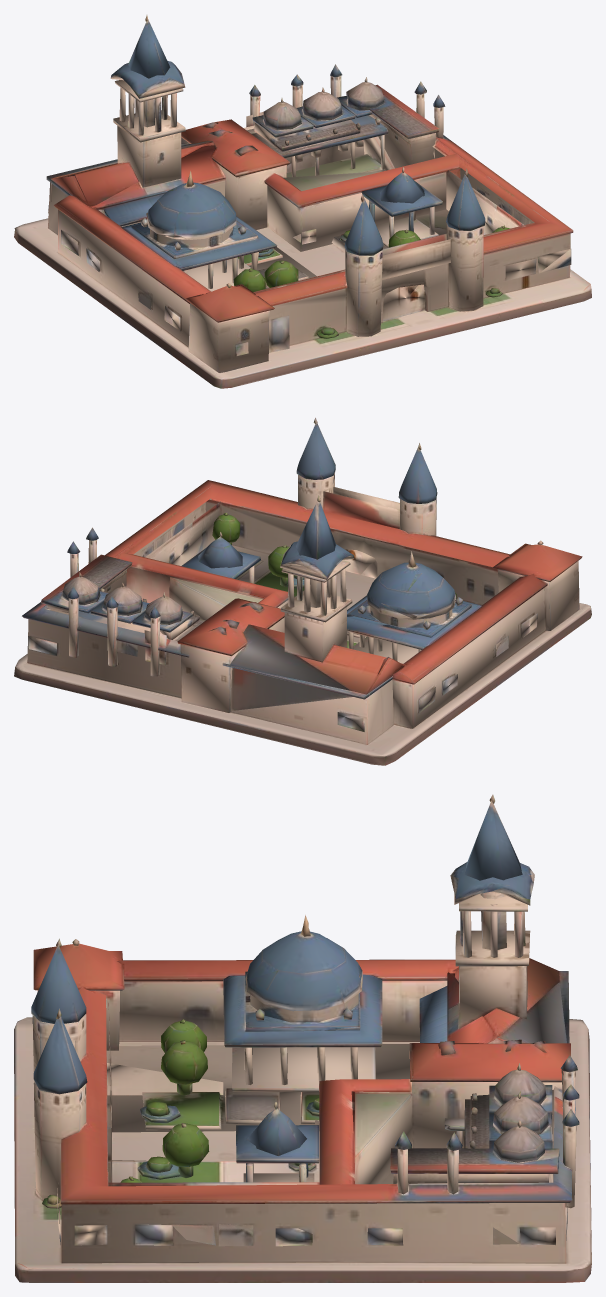
The model's file is topkapi-palace.glb.
3 renders of one model, top to bottom at view 1: azimuth 30°, elevation 25°; view 2: azimuth 150°, elevation 25°; view 3: azimuth 270°, elevation 25°, orthographic. The views are drawn at different scales.
Visible parts, largest first — view 1: mesh_node; view 2: mesh_node; view 3: mesh_node.
Boxes of the visible parts, box(x1,y1,x2,y2) form: mesh_node: box(14, 15, 591, 388); mesh_node: box(14, 417, 591, 765); mesh_node: box(14, 794, 591, 1282).
Bounding box in the file's own units: 1 × 0.5664 × 0.9688.
Materials: 1 (1 with a texture image).
